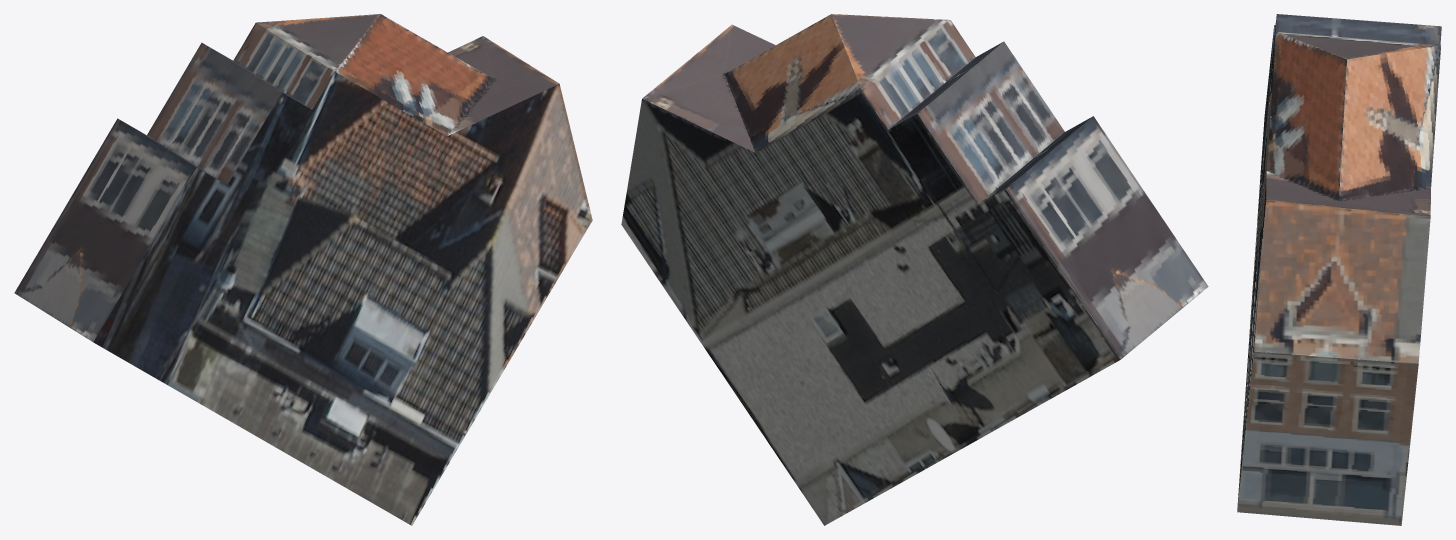
3 renders of one model, left to right at view 1: azimuth 30°, elevation 25°; view 2: azimuth 150°, elevation 25°; view 3: azimuth 270°, elevation 25°, orthographic. The views are drawn at different scales.
Parts seen in each view (by area): view 1: BAG_0599100000760369 (×4); view 2: BAG_0599100000760369 (×4); view 3: BAG_0599100000760369 (×3).
Part boxes in pixels (x1,y1,x2,y2): BAG_0599100000760369 (×4): (14, 14, 592, 525); BAG_0599100000760369 (×4): (621, 14, 1208, 525); BAG_0599100000760369 (×3): (1237, 14, 1441, 525).
Size of the model in its own units: 18.91 by 17.29 by 6.73.
Materials: 1 (1 with a texture image).
